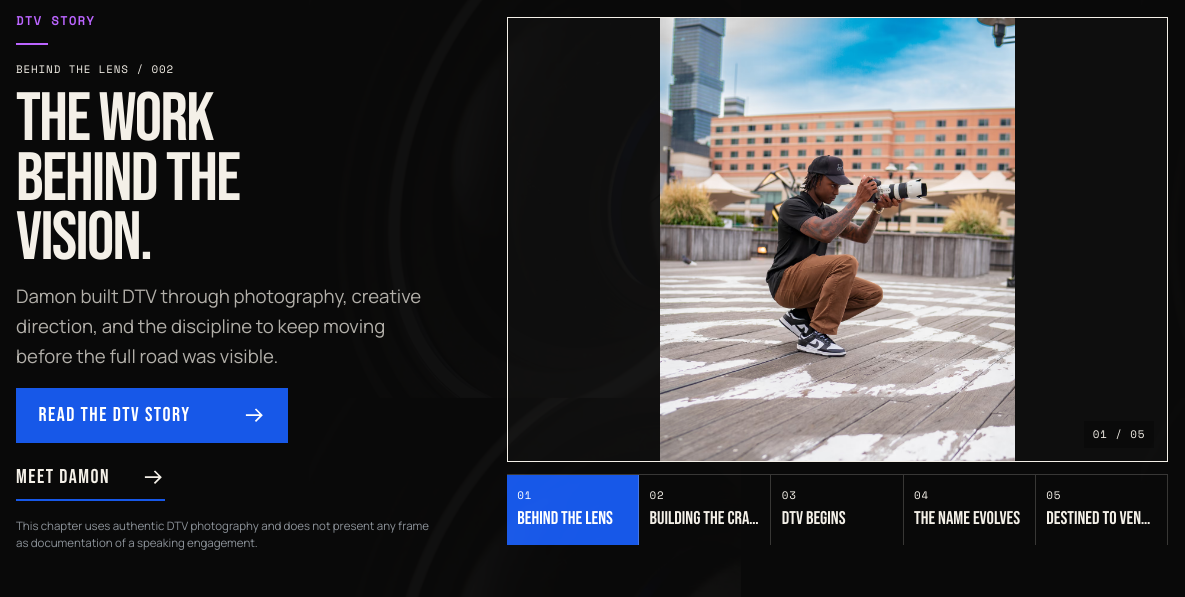
Test case: HomeStoryChapter › updates the editorial frame through named controls
Click the button "03 DTV Begins".
click(838, 510)  # box [771,475,904,545]
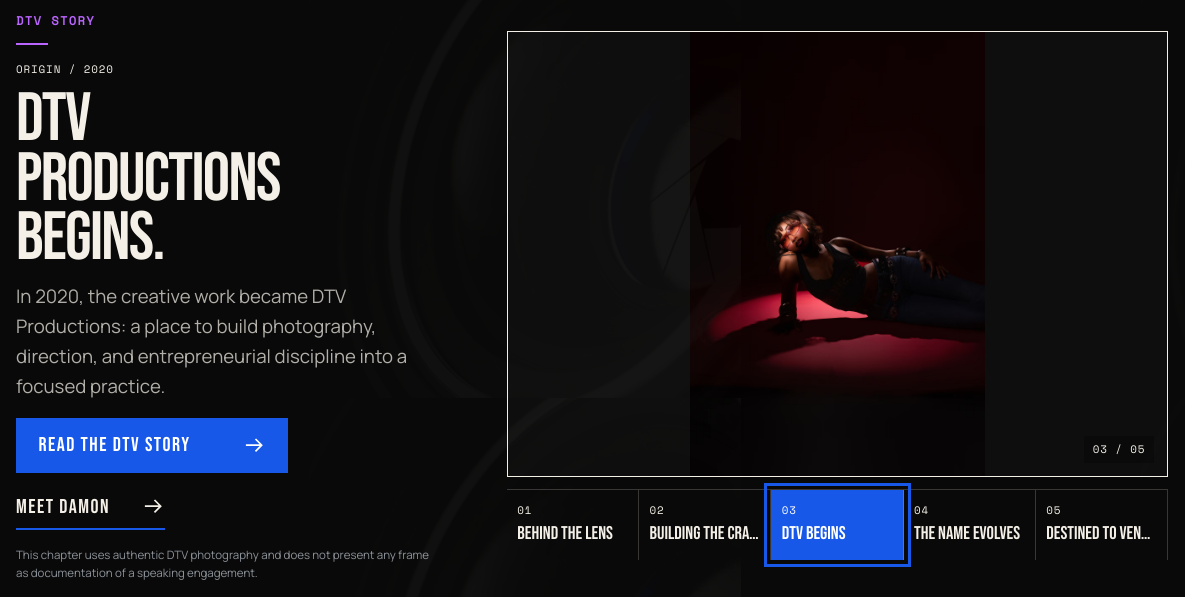
Result: the heading "DTV Productions begins." is shown at [16,90,289,269]
Result: the text "ORIGIN / 2020" is shown at [16,61,114,77]
Result: the text "In 2020, the creative work became DTV Productions" is shown at [16,283,407,399]
